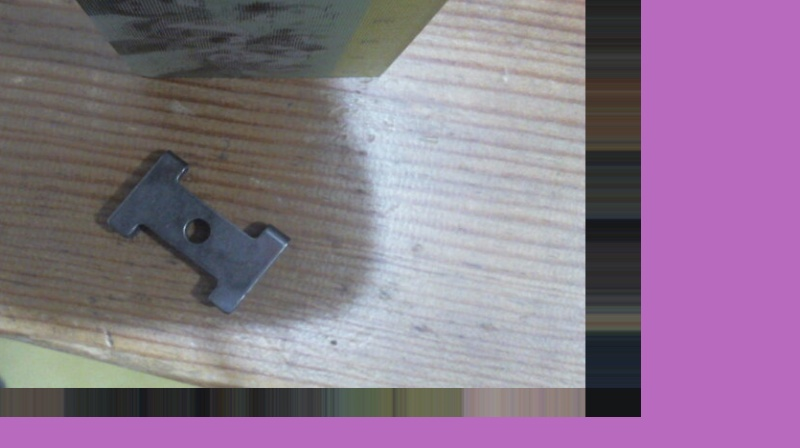O002: (104, 146, 293, 314)
